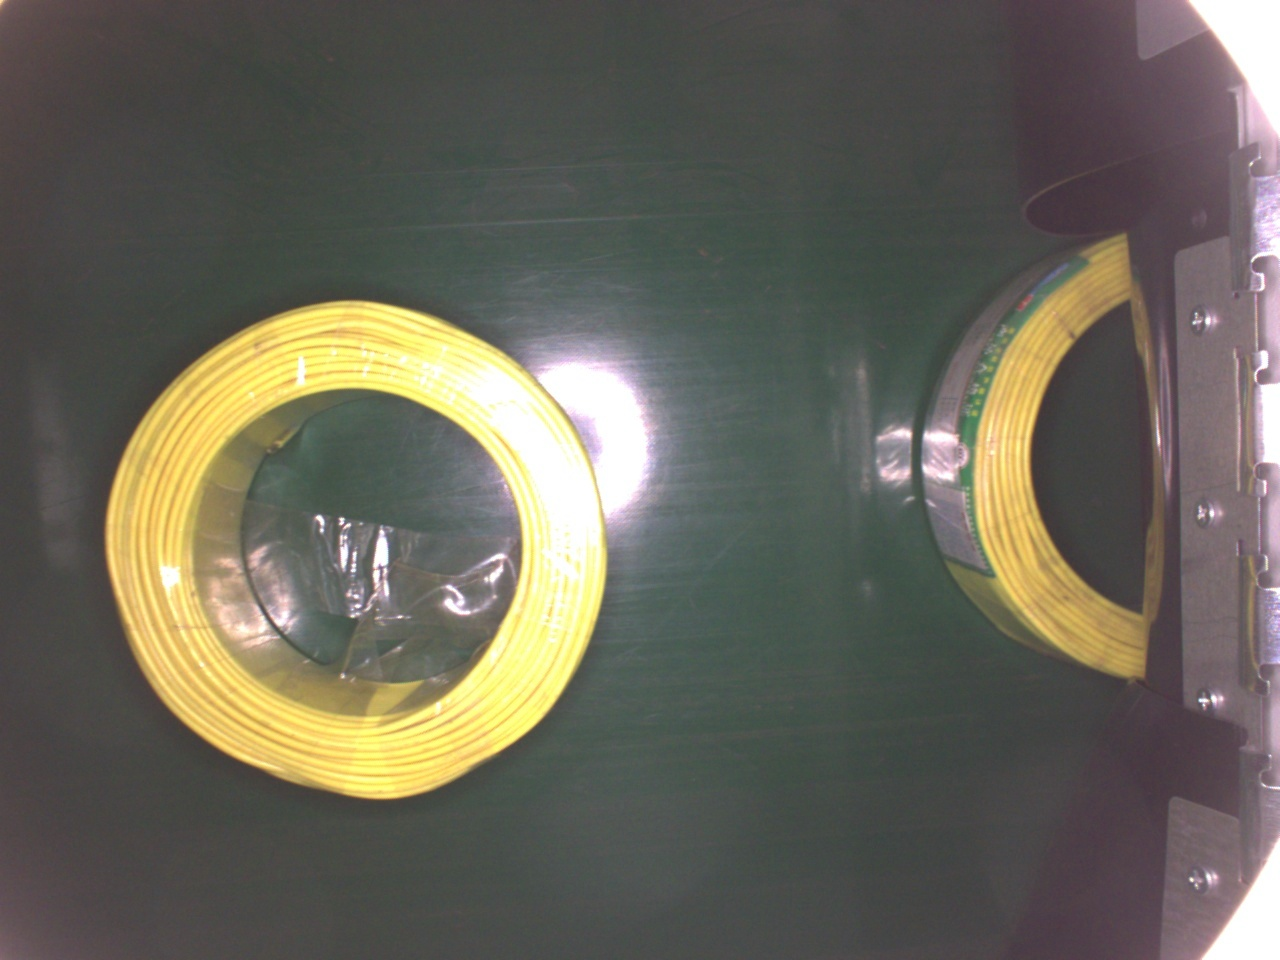yellow: (100, 294, 603, 798), (925, 221, 1146, 682)
